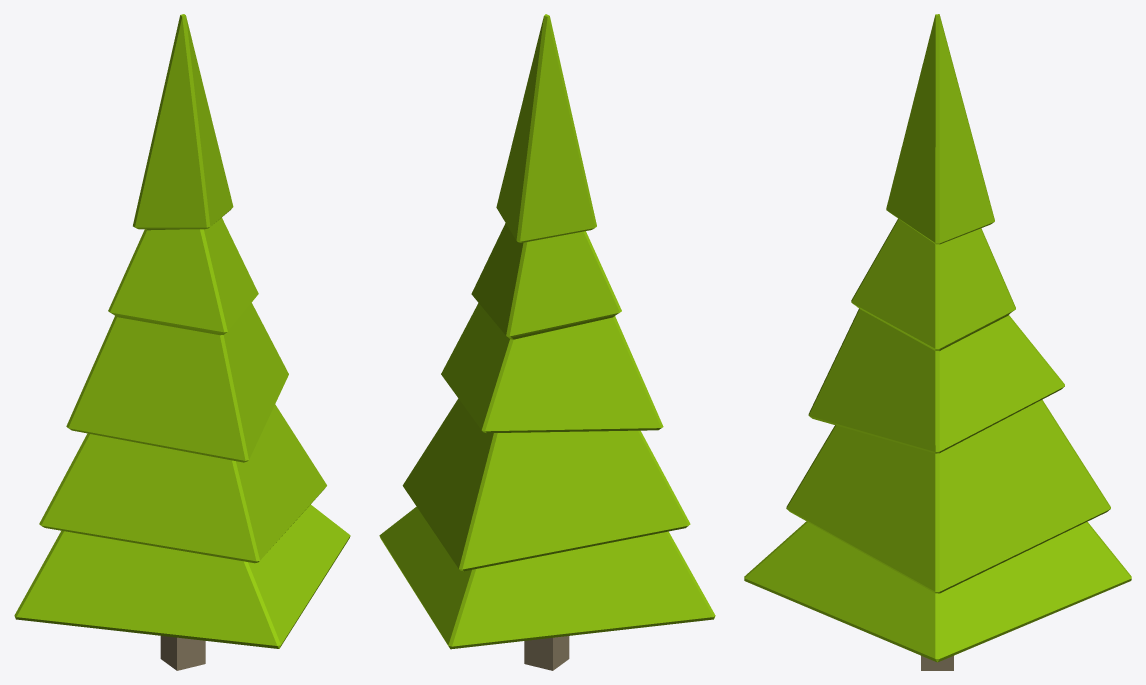
File: pine_skewed_12_bevel.fbx
3 renders of one model, left to right at view 1: azimuth 30°, elevation 25°; view 2: azimuth 150°, elevation 25°; view 3: azimuth 270°, elevation 25°, orthographic.
Parts seen in each view (by area): view 1: pine_skewed_12_bevel; view 2: pine_skewed_12_bevel; view 3: pine_skewed_12_bevel.
Part boxes in pixels (x1,y1,x2,y2): pine_skewed_12_bevel: (14, 14, 350, 670); pine_skewed_12_bevel: (379, 14, 715, 670); pine_skewed_12_bevel: (744, 14, 1131, 670).
Bounding box in the file's own units: 141 × 260 × 141.
